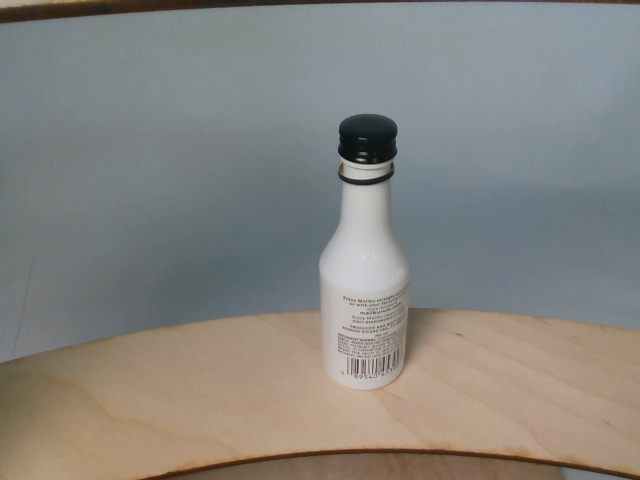tequila: (317, 111, 411, 393)
